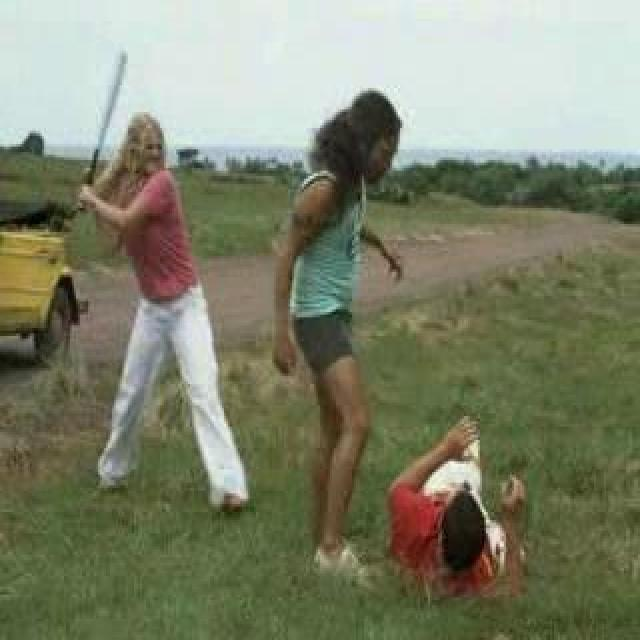fight: (66, 2, 572, 640)
